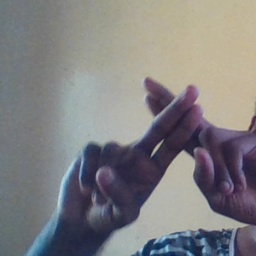F: (105, 70, 242, 200)
